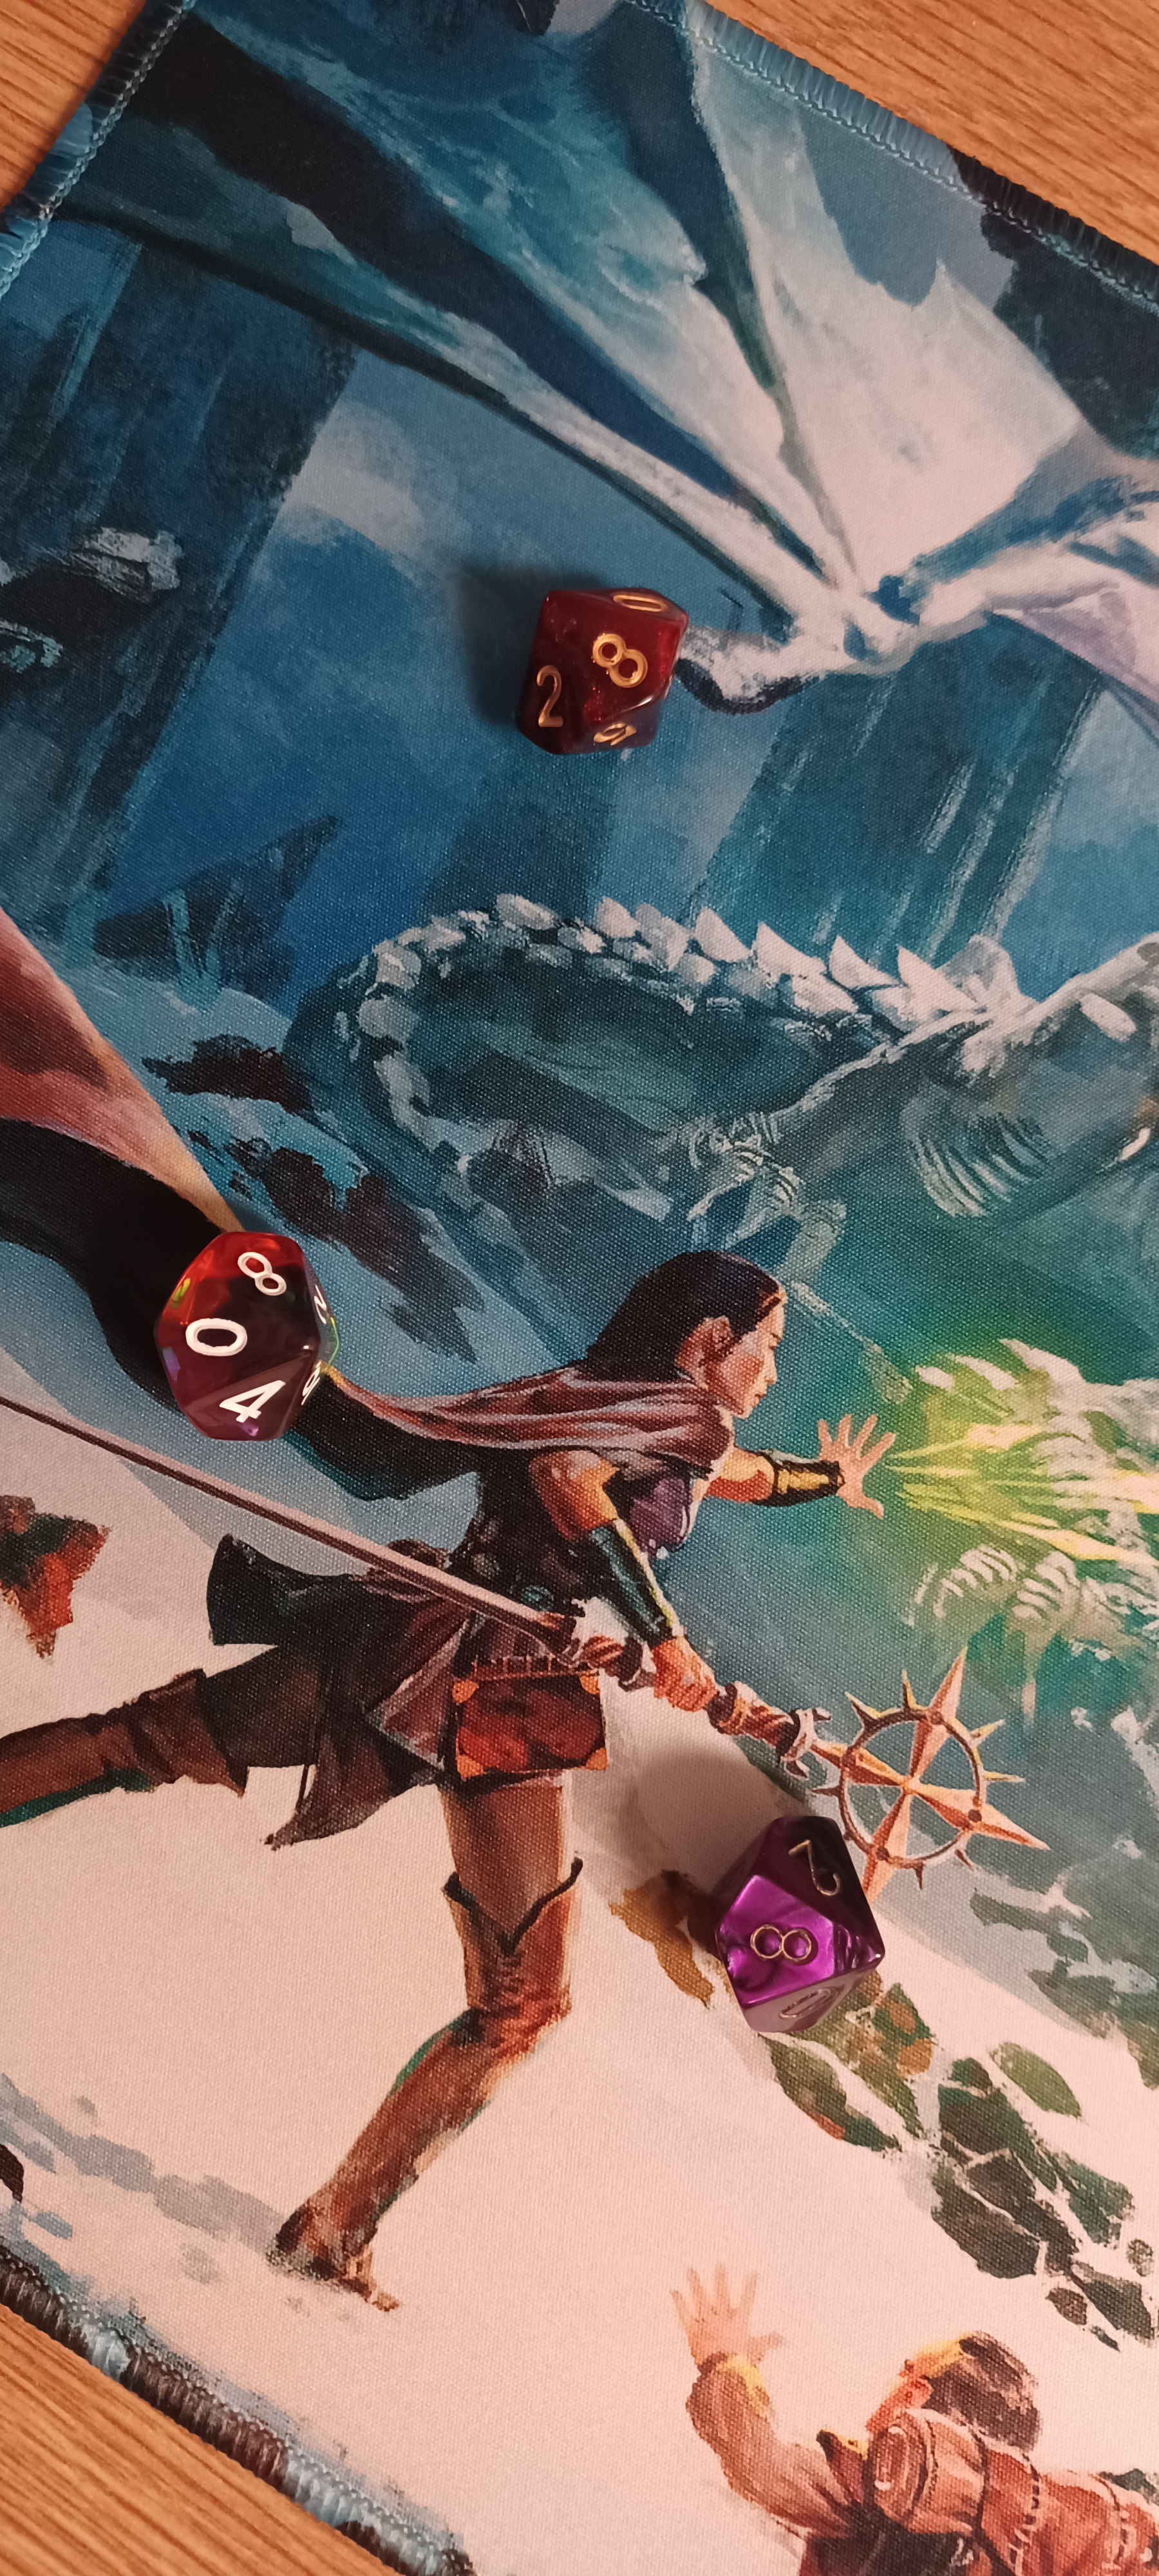eight: (681, 1789, 923, 2057), (463, 552, 721, 769)
zero: (117, 1193, 353, 1479)
